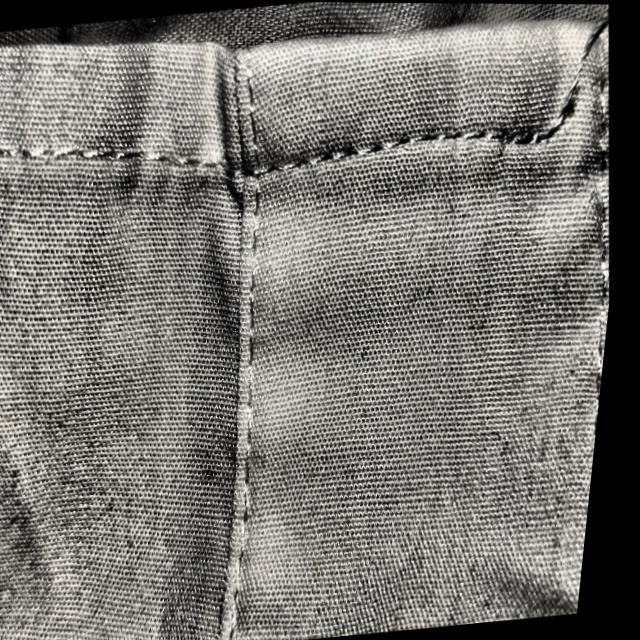Stitch: (498, 3, 625, 171), (190, 58, 293, 243)
